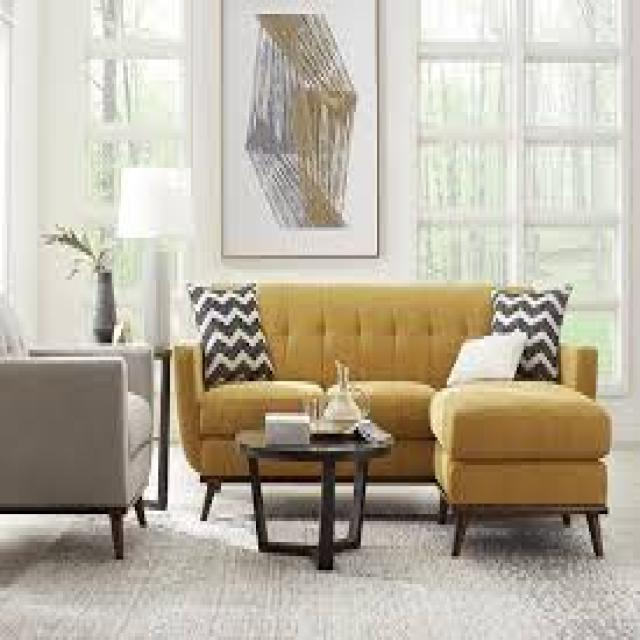Chair: (0, 310, 165, 573)
Sofa: (180, 268, 606, 568)
Table: (243, 417, 396, 578)
